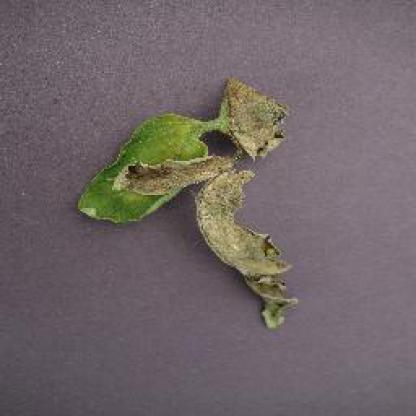bad leaf: (76, 81, 317, 327)
